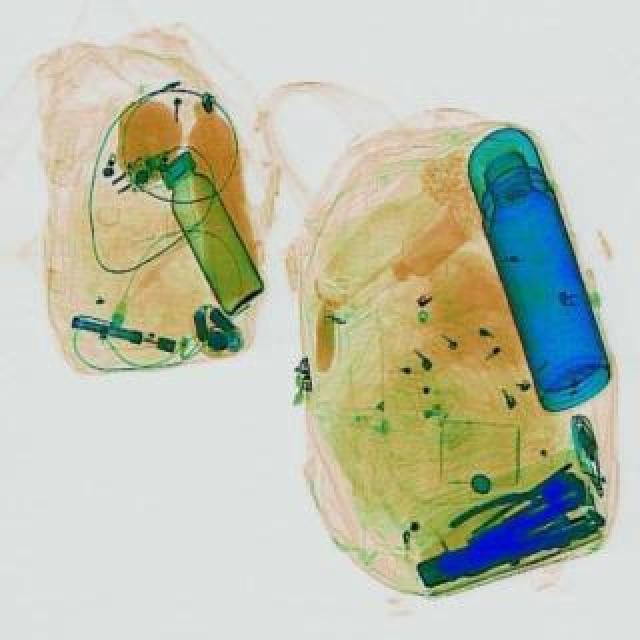wrench: (442, 488, 598, 588), (446, 460, 586, 542)
